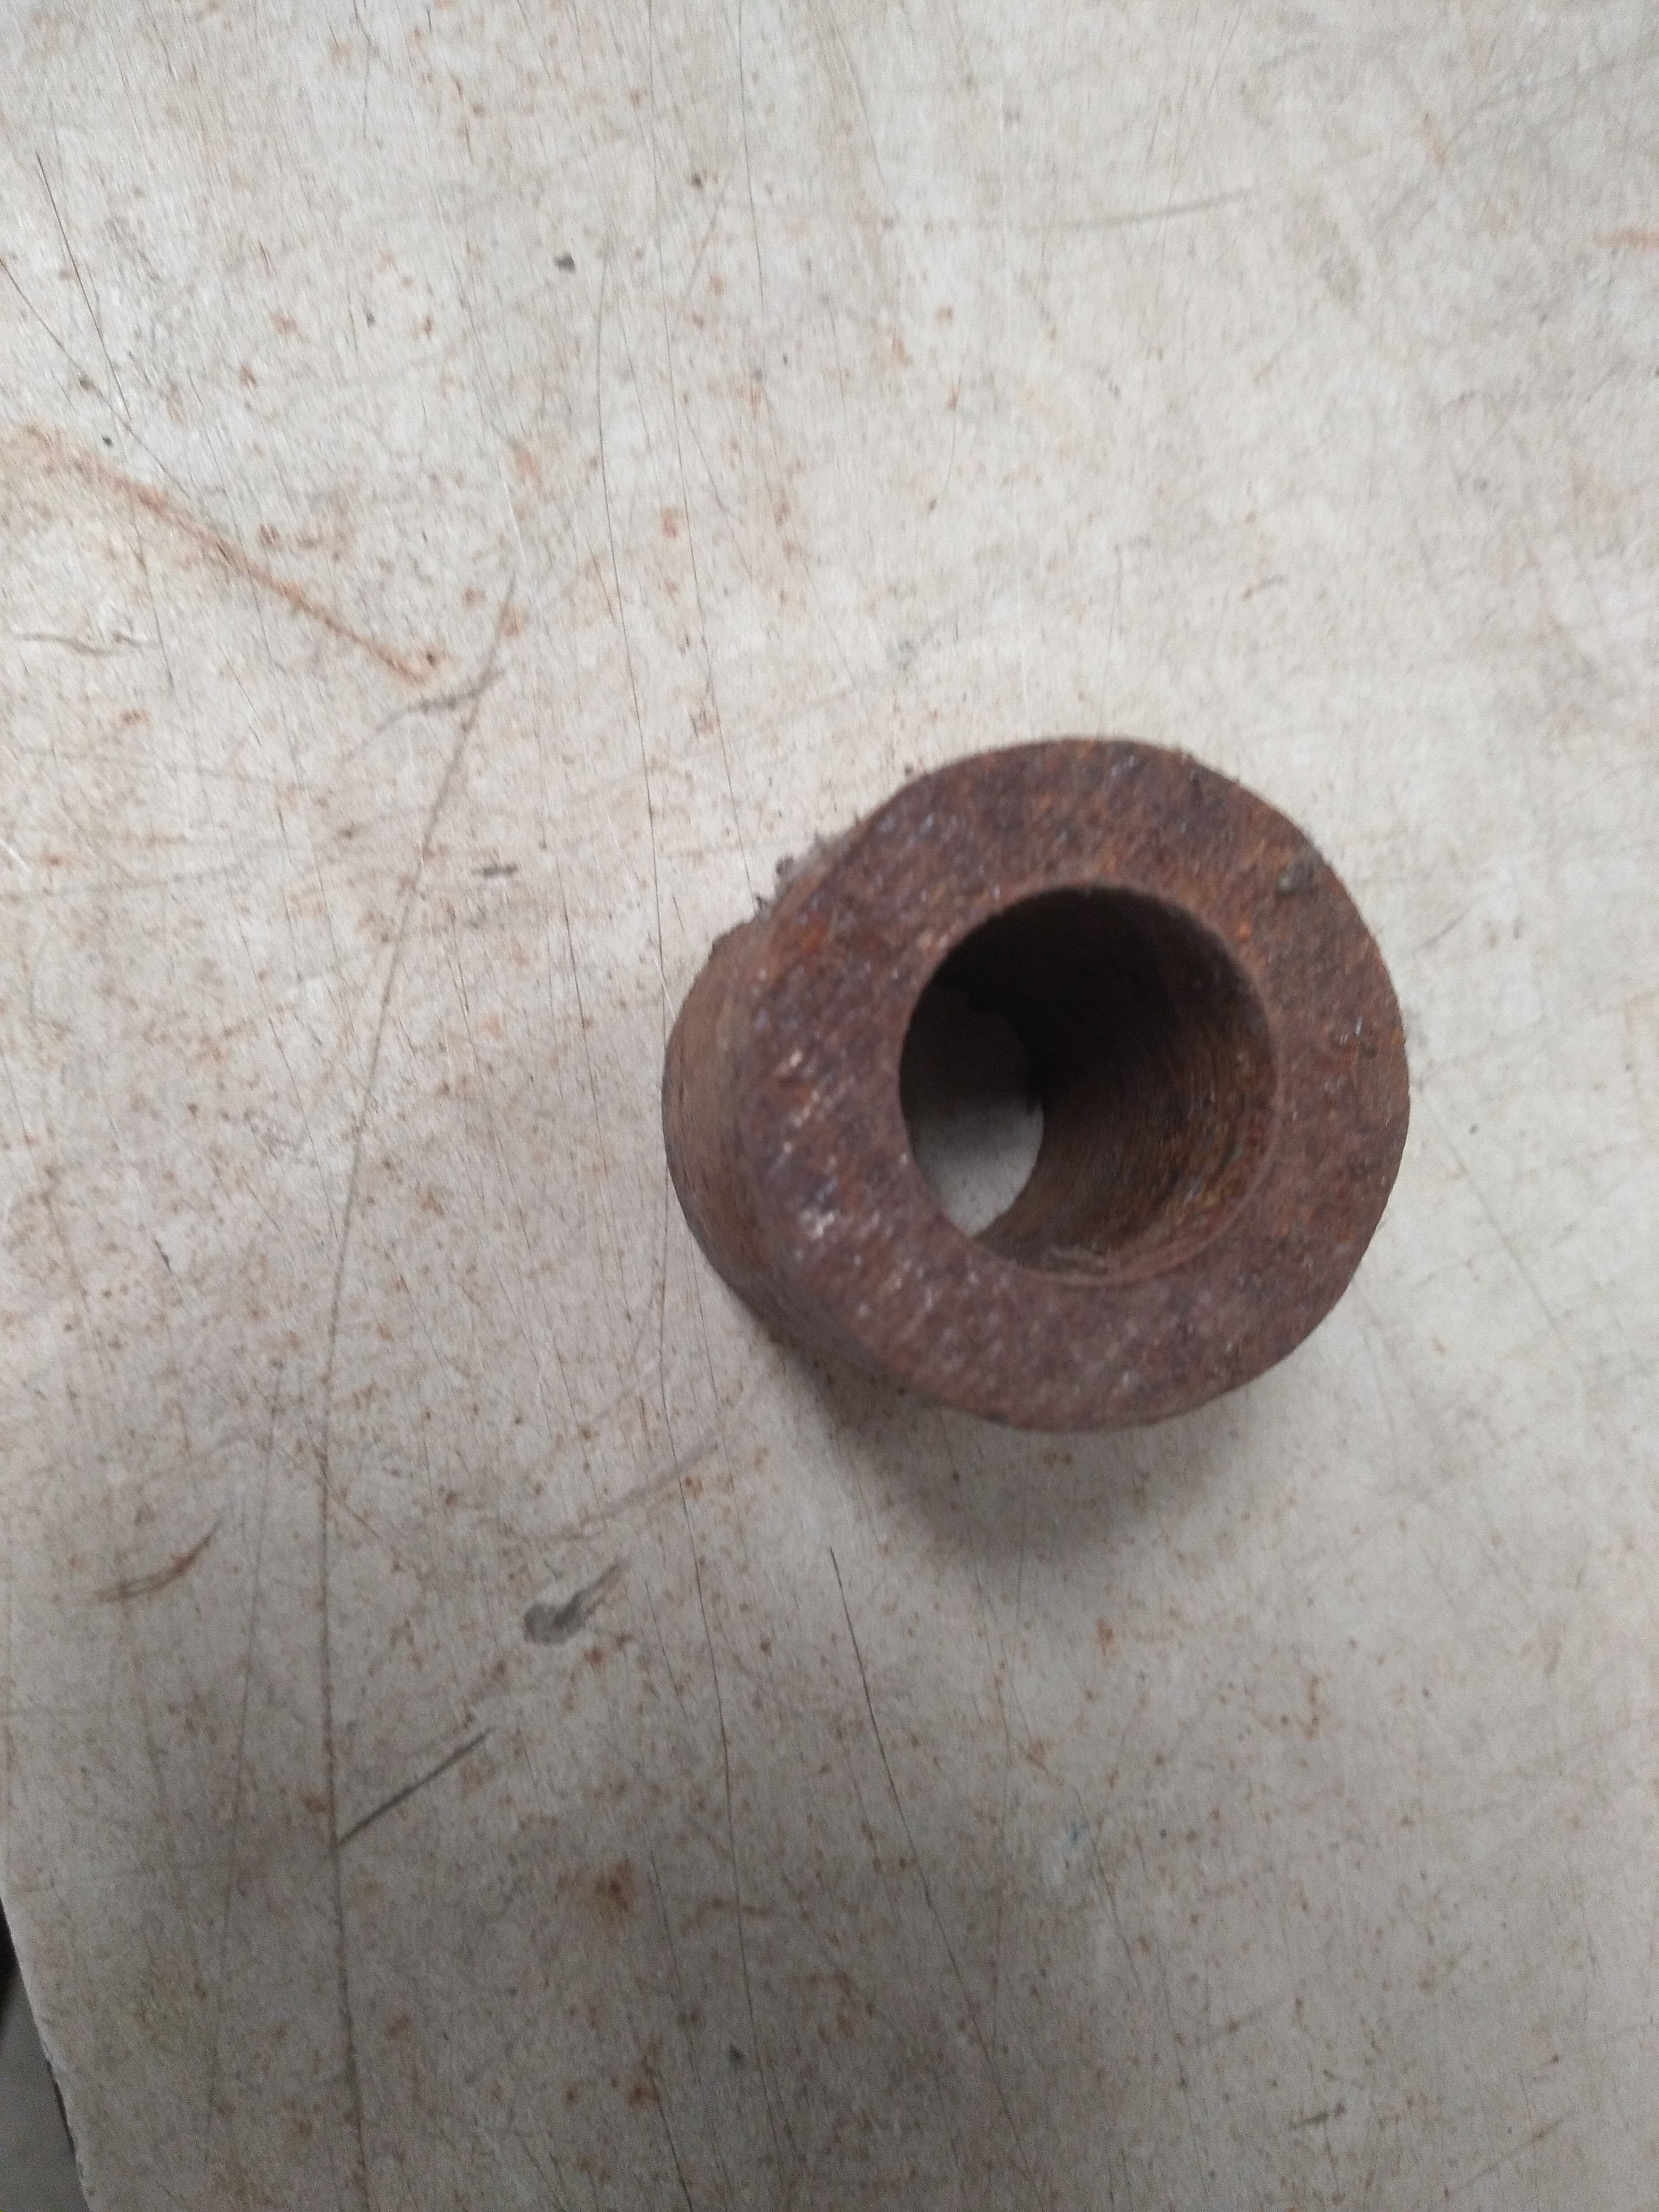No thread: (871, 864, 1323, 1362)
